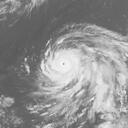cyclone: (39, 24, 87, 85)
